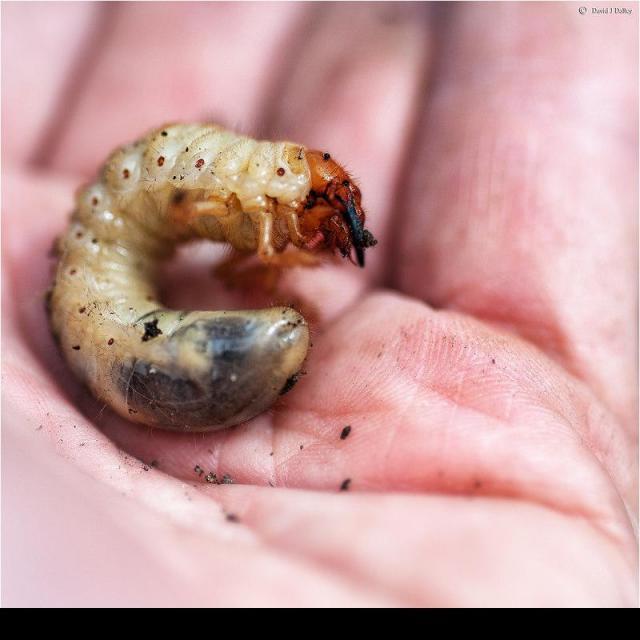Grub-Adult-: (46, 116, 378, 428)
